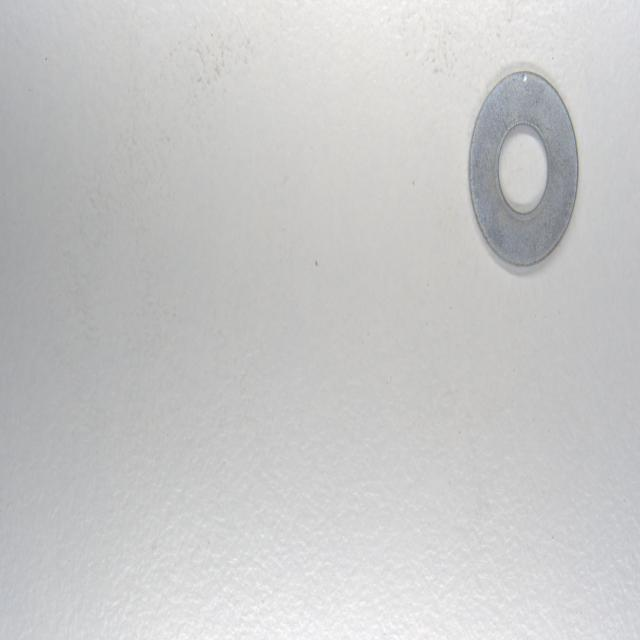washer: (468, 69, 580, 272)
